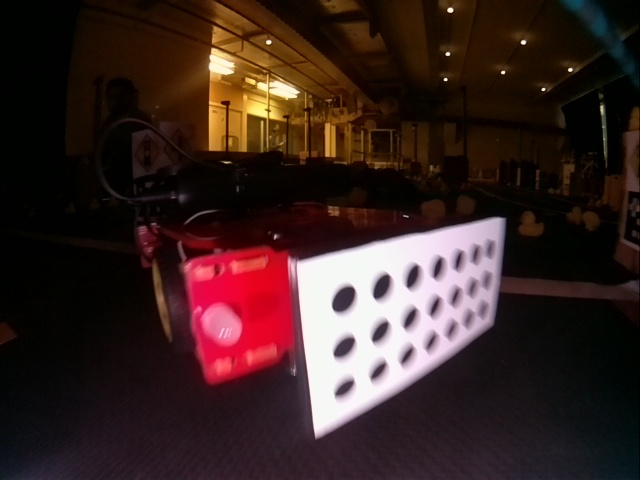Duckie: (519, 211, 544, 236), (584, 212, 601, 231), (567, 207, 583, 224)
Duckiebot: (132, 196, 503, 441)
Signal sign: (133, 131, 160, 174)
